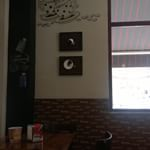cups: (6, 125, 23, 148)
